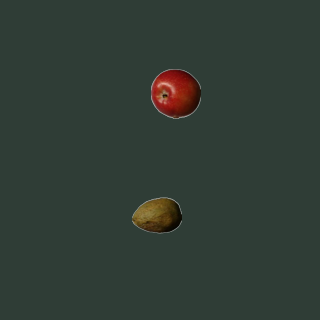Apple Braeburn: (150, 68, 200, 118)
Papaya: (131, 190, 181, 240)
